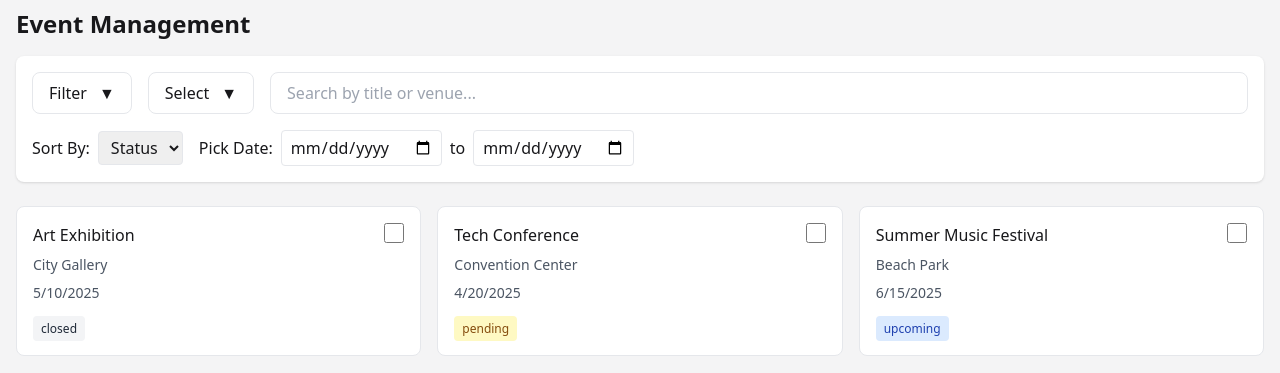
it: EventManagement component › filters events when status filter is toggled
Expected: the heading "Summer Music Festival" is shown, [876,223,1048,247]
Expected: the heading "Tech Conference" is shown, [454,223,579,247]
Note: Open filter dropdown
Click the button "Filter ▼" at (82, 93), box [32,72,132,114]
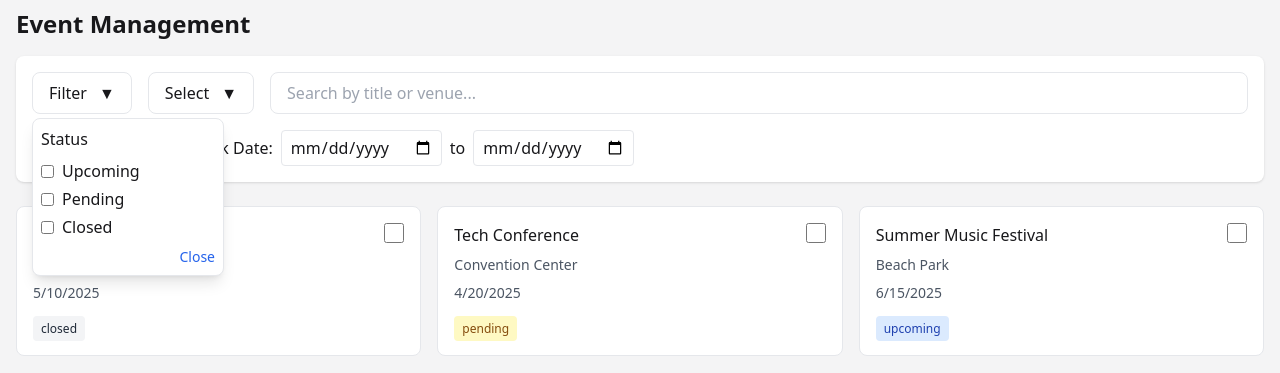
Note: Select only 'upcoming' status
Click the checkbox labelled "upcoming" at (48, 171), box [41,164,54,178]
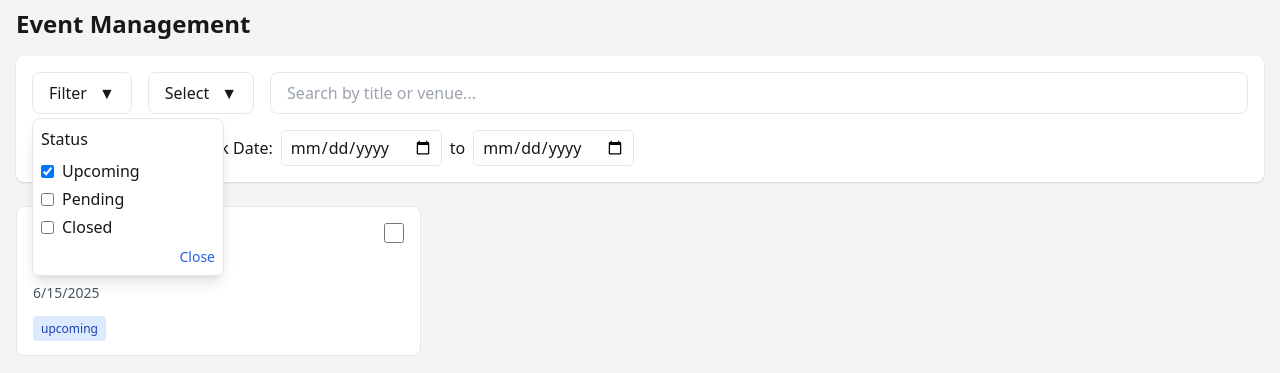
Expected: the heading "Summer Music Festival" is shown, [33,223,206,247]
Expected: the heading "Tech Conference" is gone
